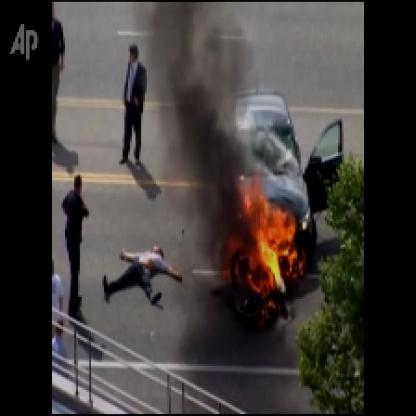Fire: (216, 169, 304, 314)
Smoke: (137, 2, 260, 249)
